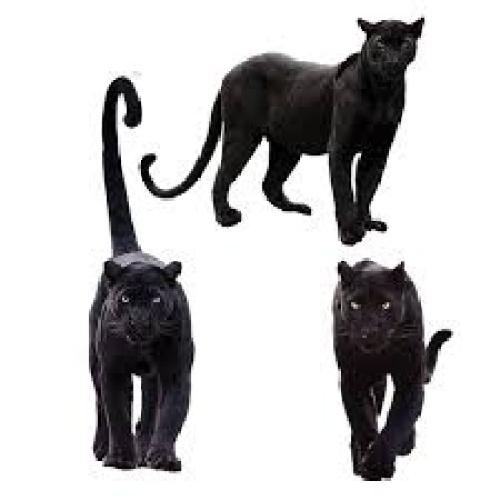panther-endangered: (138, 14, 432, 246), (80, 77, 196, 476), (329, 255, 458, 485)
